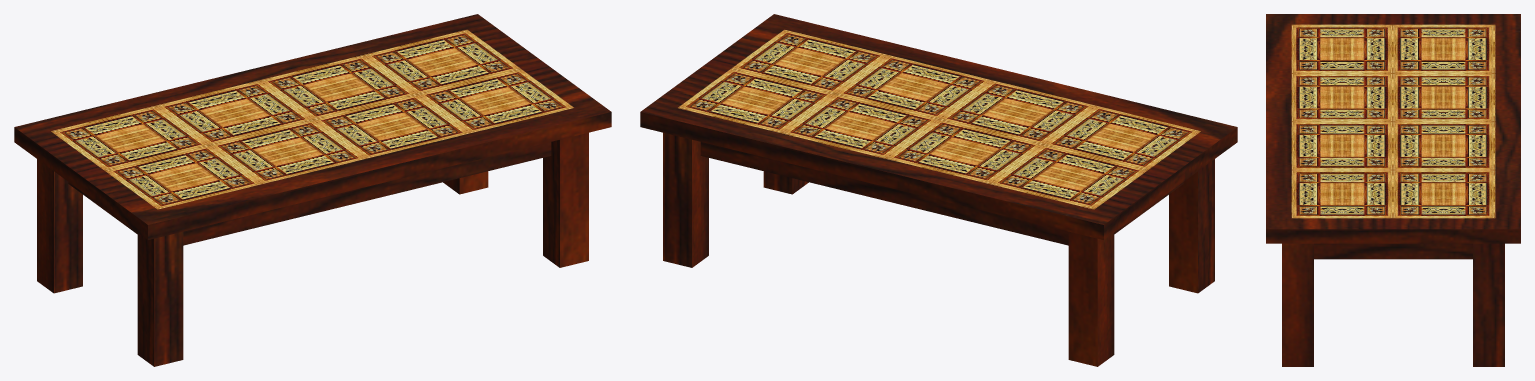
File: CoffeeTableWithInlays05.fbx
3 views of the same model, side by side, from view 1: azimuth 30°, elevation 25°; view 2: azimuth 150°, elevation 25°; view 3: azimuth 270°, elevation 25° (orthographic). The views are drawn at different scales.
Visible parts, largest first — view 1: default; view 2: default; view 3: default.
Boxes of the visible parts, x1,y1,x2,y2 form: default: (14,14,611,366); default: (640,14,1237,366); default: (1266,14,1520,366).
Size of the model in its own units: 376 by 118 by 188.
